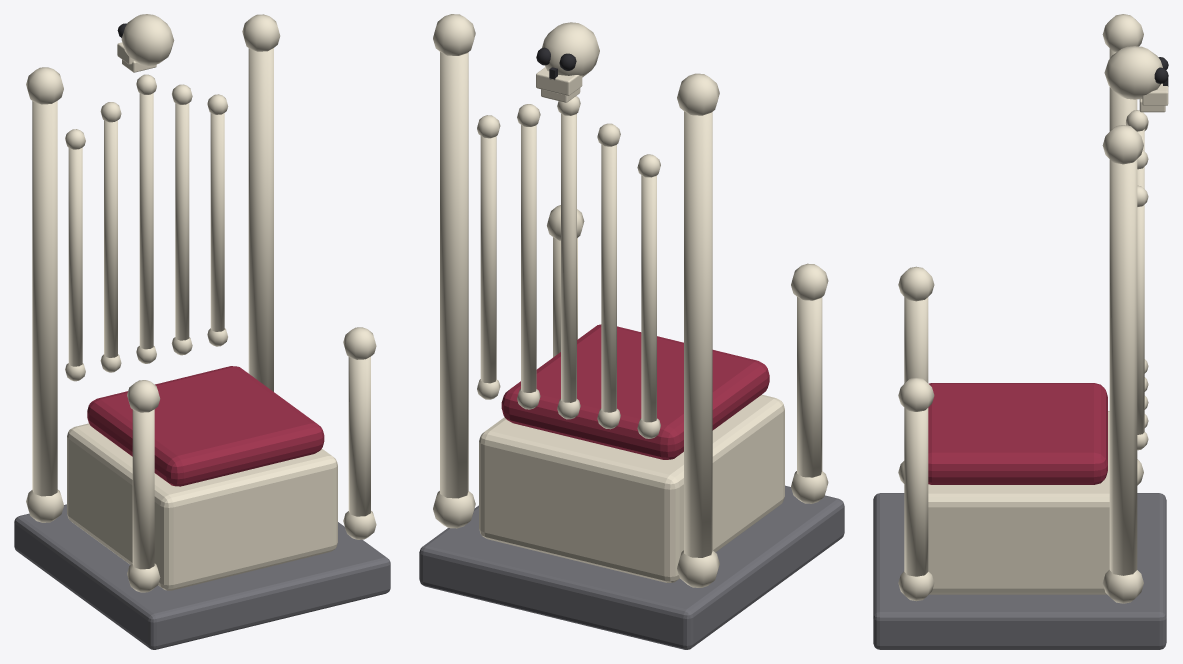
File: throne_bone_throne.glb
3 renders of one model, left to right at view 1: azimuth 30°, elevation 25°; view 2: azimuth 150°, elevation 25°; view 3: azimuth 270°, elevation 25°, orthographic. The views are drawn at different scales.
Visible parts, largest first — view 1: GD_throne_bone_throne__m1, GD_throne_bone_throne__m0, GD_throne_bone_throne__m2; view 2: GD_throne_bone_throne__m1, GD_throne_bone_throne__m0, GD_throne_bone_throne__m2; view 3: GD_throne_bone_throne__m1, GD_throne_bone_throne__m0, GD_throne_bone_throne__m2.
Boxes of the visible parts, box(x1,y1,x2,y2) form: GD_throne_bone_throne__m1: box(26, 14, 376, 592); GD_throne_bone_throne__m0: box(14, 504, 390, 649); GD_throne_bone_throne__m2: box(87, 366, 324, 486); GD_throne_bone_throne__m1: box(433, 14, 828, 587); GD_throne_bone_throne__m0: box(419, 485, 844, 649); GD_throne_bone_throne__m2: box(501, 324, 769, 459); GD_throne_bone_throne__m1: box(898, 14, 1168, 603); GD_throne_bone_throne__m0: box(873, 493, 1166, 649); GD_throne_bone_throne__m2: box(928, 383, 1107, 484).
Size of the model in its own units: 0.88 by 1.73 by 0.8565.
